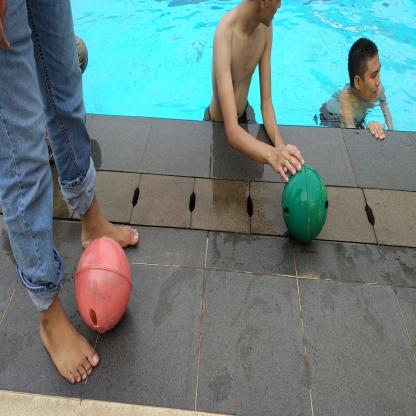green_buoy: (278, 162, 331, 250)
red_buoy: (71, 236, 133, 341)
